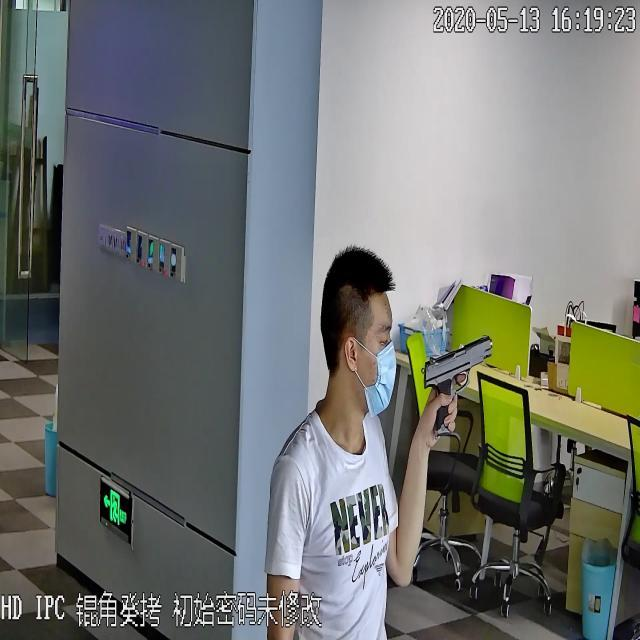gun: (419, 331, 493, 447)
